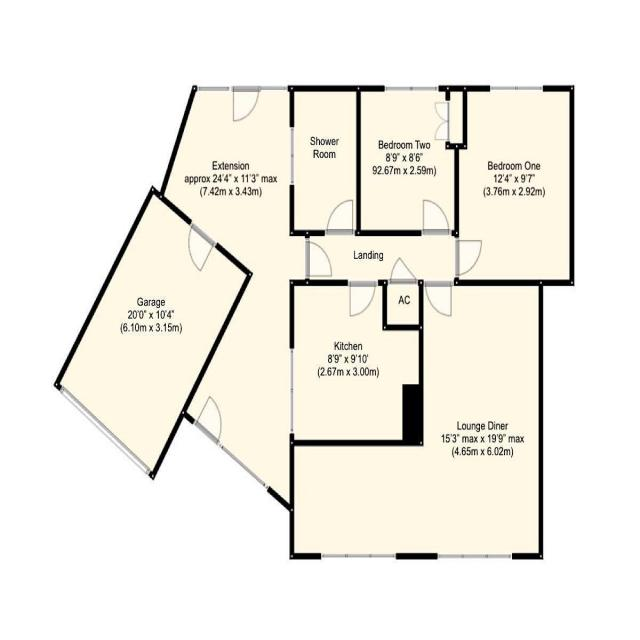DOOR: (422, 279, 454, 318), (454, 236, 483, 279), (347, 279, 379, 317), (420, 198, 452, 236), (324, 199, 356, 236), (305, 237, 333, 279)
ROOM: (289, 279, 543, 560), (454, 85, 575, 287), (289, 279, 424, 447), (355, 85, 467, 236)
WINDOW: (320, 553, 397, 560), (437, 553, 513, 560), (289, 348, 295, 435), (489, 84, 544, 92), (384, 84, 439, 92), (289, 126, 295, 186)
